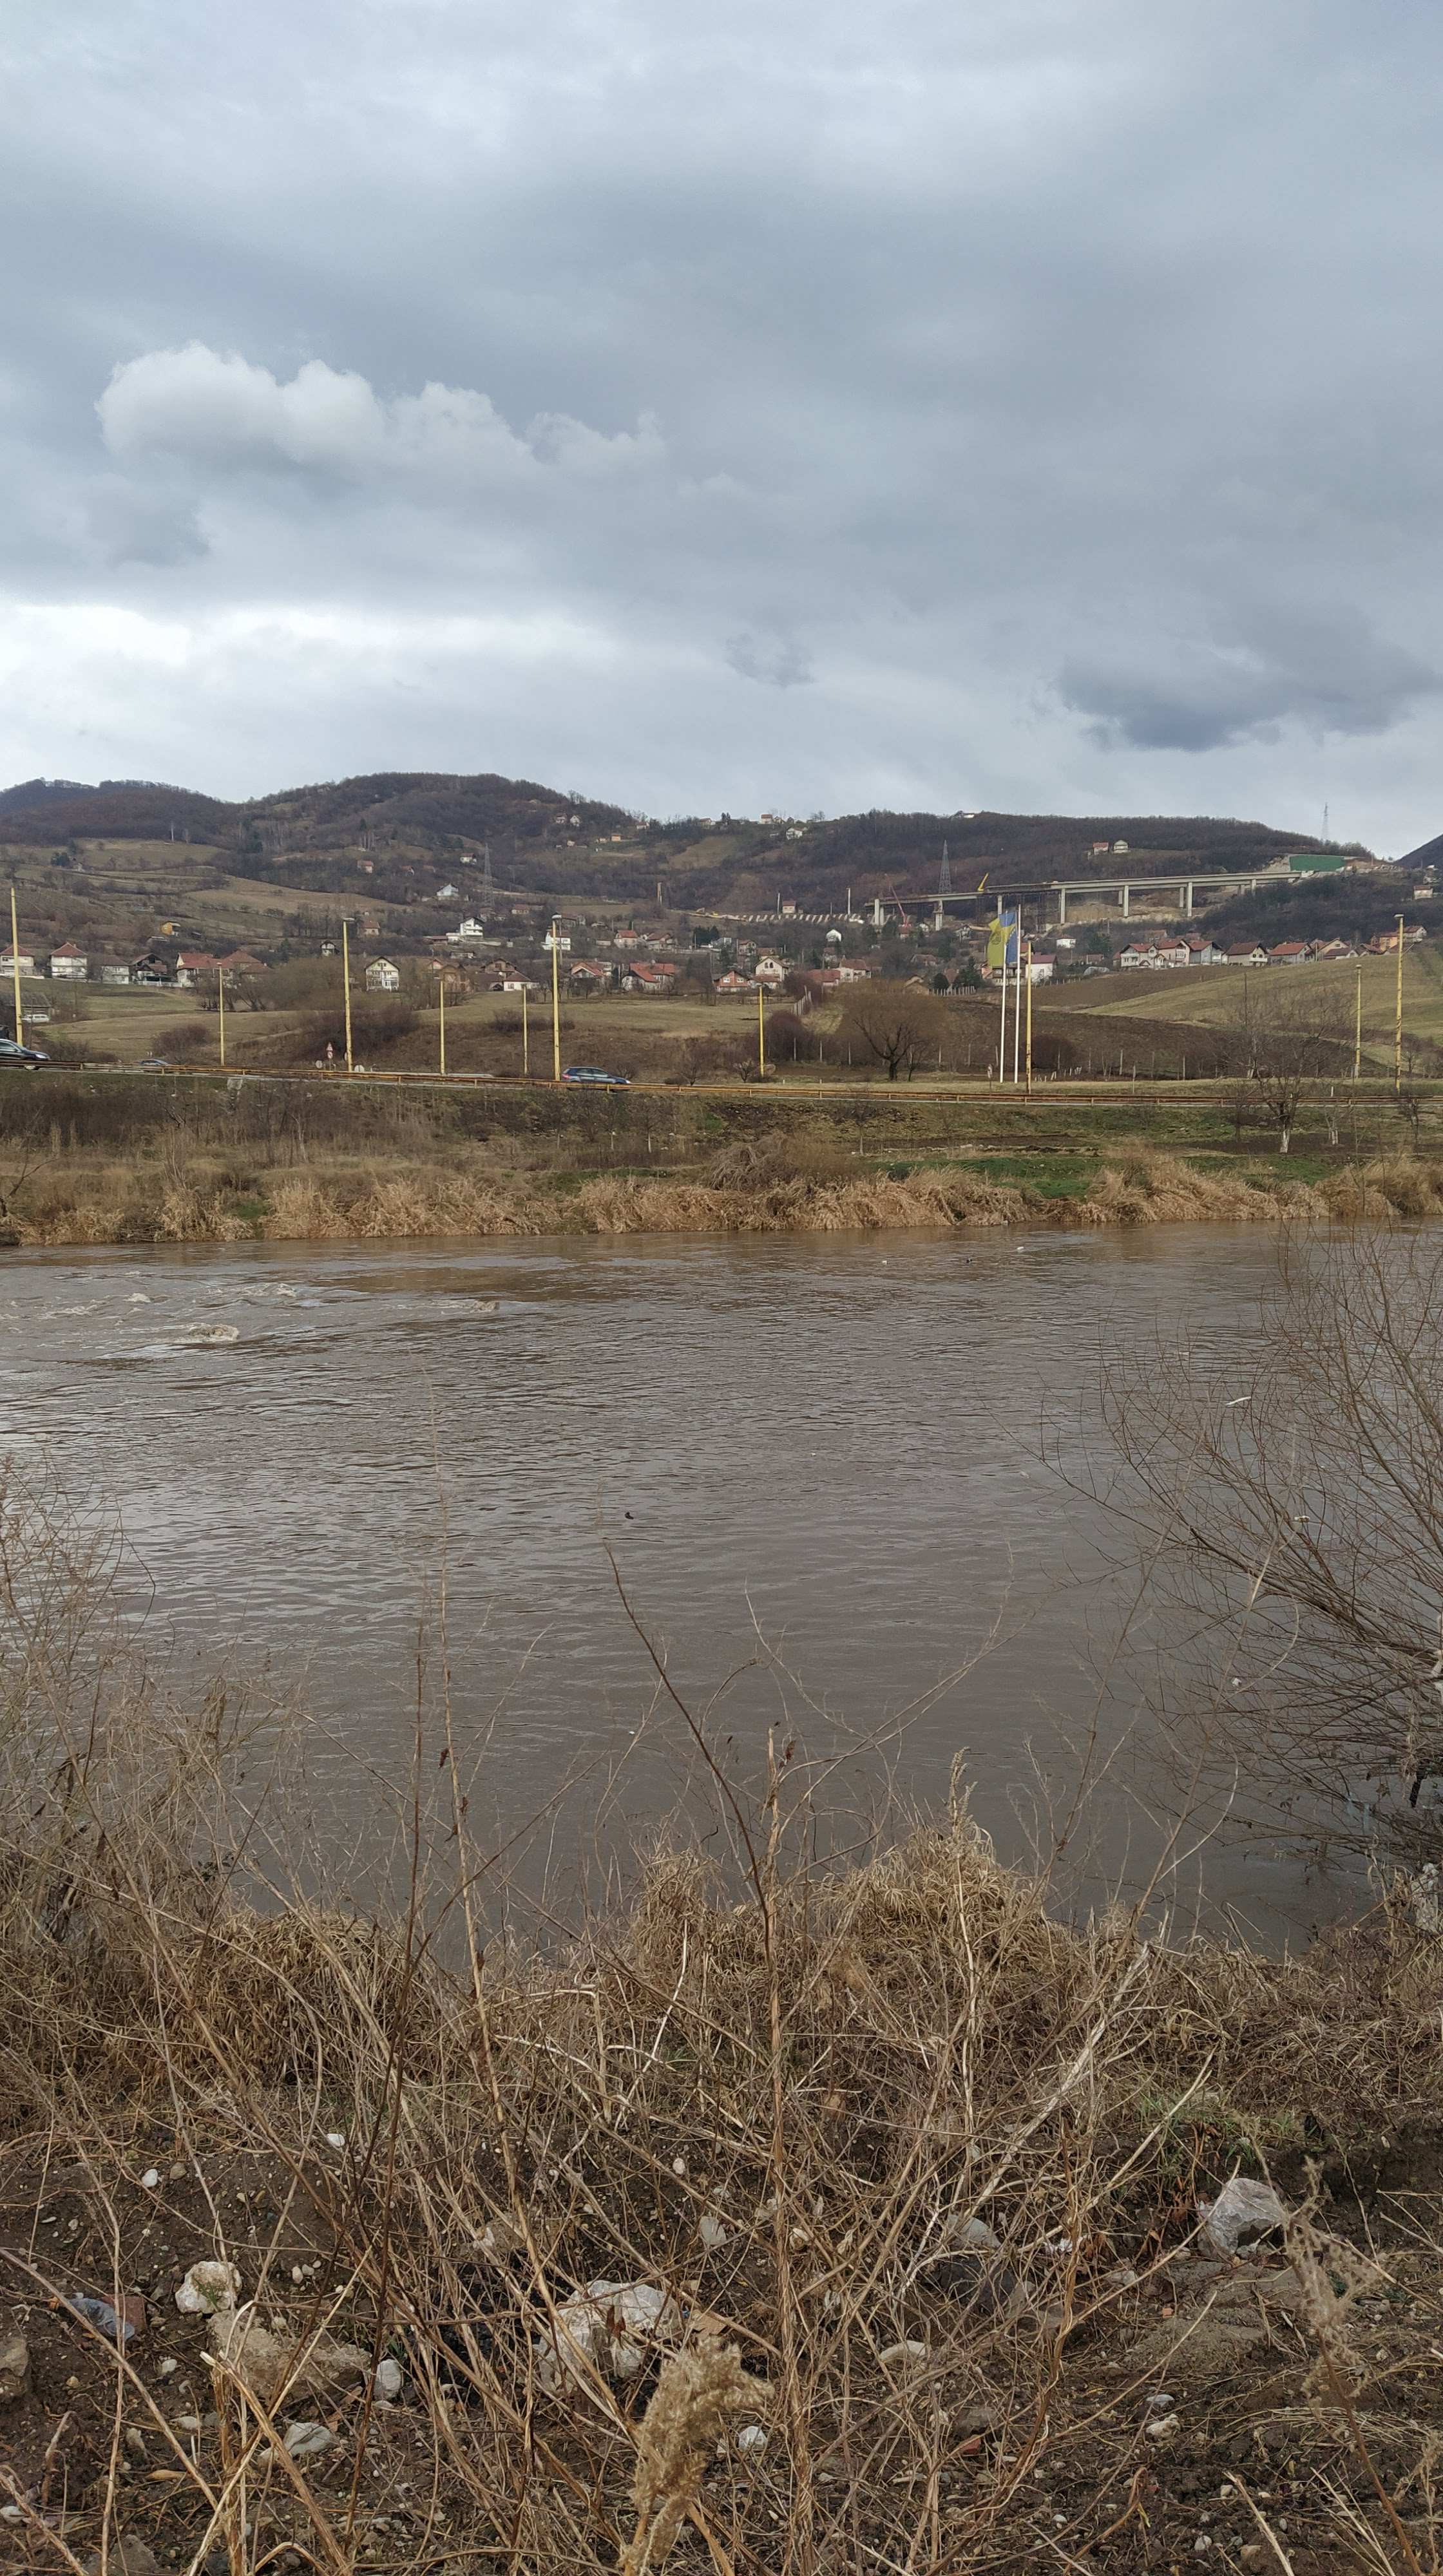Plastic Bottle: (1231, 1677, 1241, 1686), (1177, 1352, 1190, 1355), (1022, 1472, 1029, 1477), (1018, 1246, 1022, 1251), (882, 1260, 885, 1261), (967, 1260, 970, 1261)
